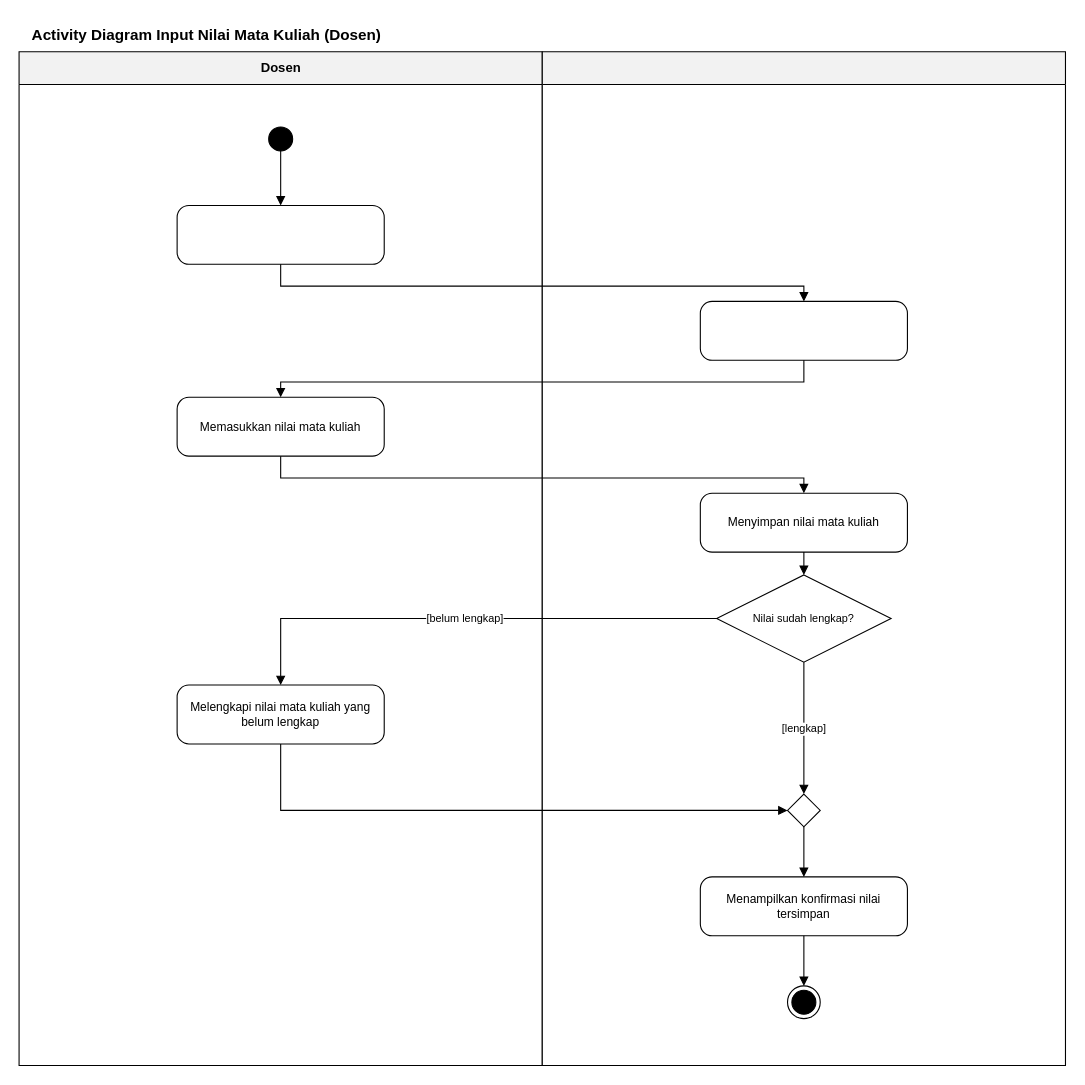
The diagram is 1085 pixels wide and 1085 high, and some of its shapes have lost their labels. Here are the shapes that lost their labels. From the top down, the box of each, then its label:
(176, 204, 384, 264): Membuka fungsi Input Nilai Mata Kuliah
(699, 300, 907, 360): Menampilkan daftar mata kuliah dan mahasiswa
(541, 51, 1065, 1065): Sistem
